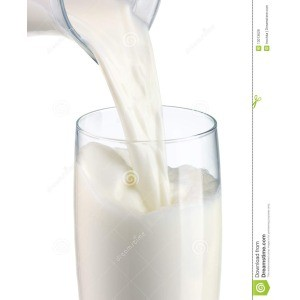milk_brain food: (71, 144, 219, 294), (72, 21, 158, 124)
